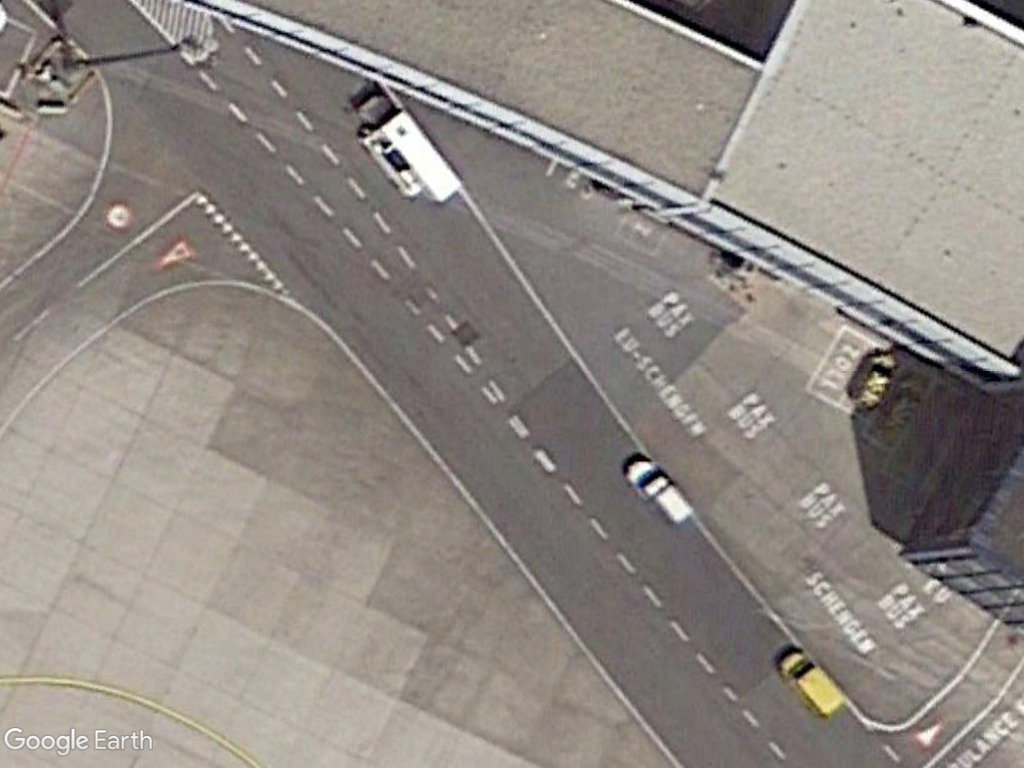van: (621, 454, 696, 530), (779, 647, 848, 723)
